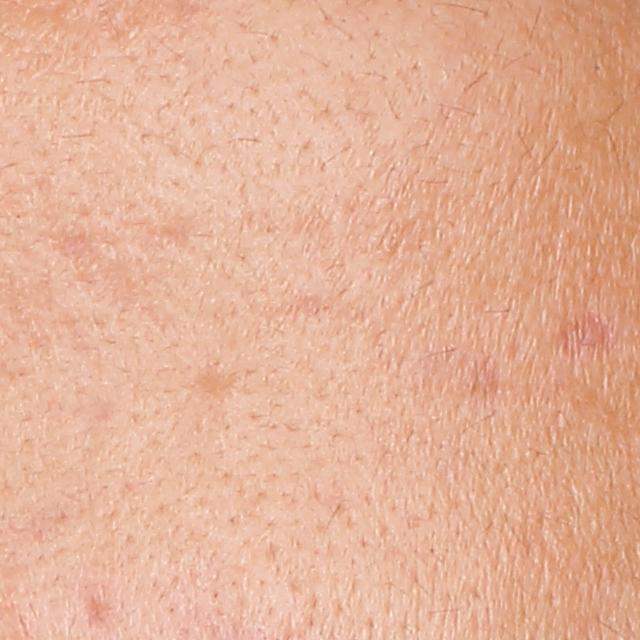atrophic_scar: (49, 229, 118, 285), (84, 589, 110, 627)
